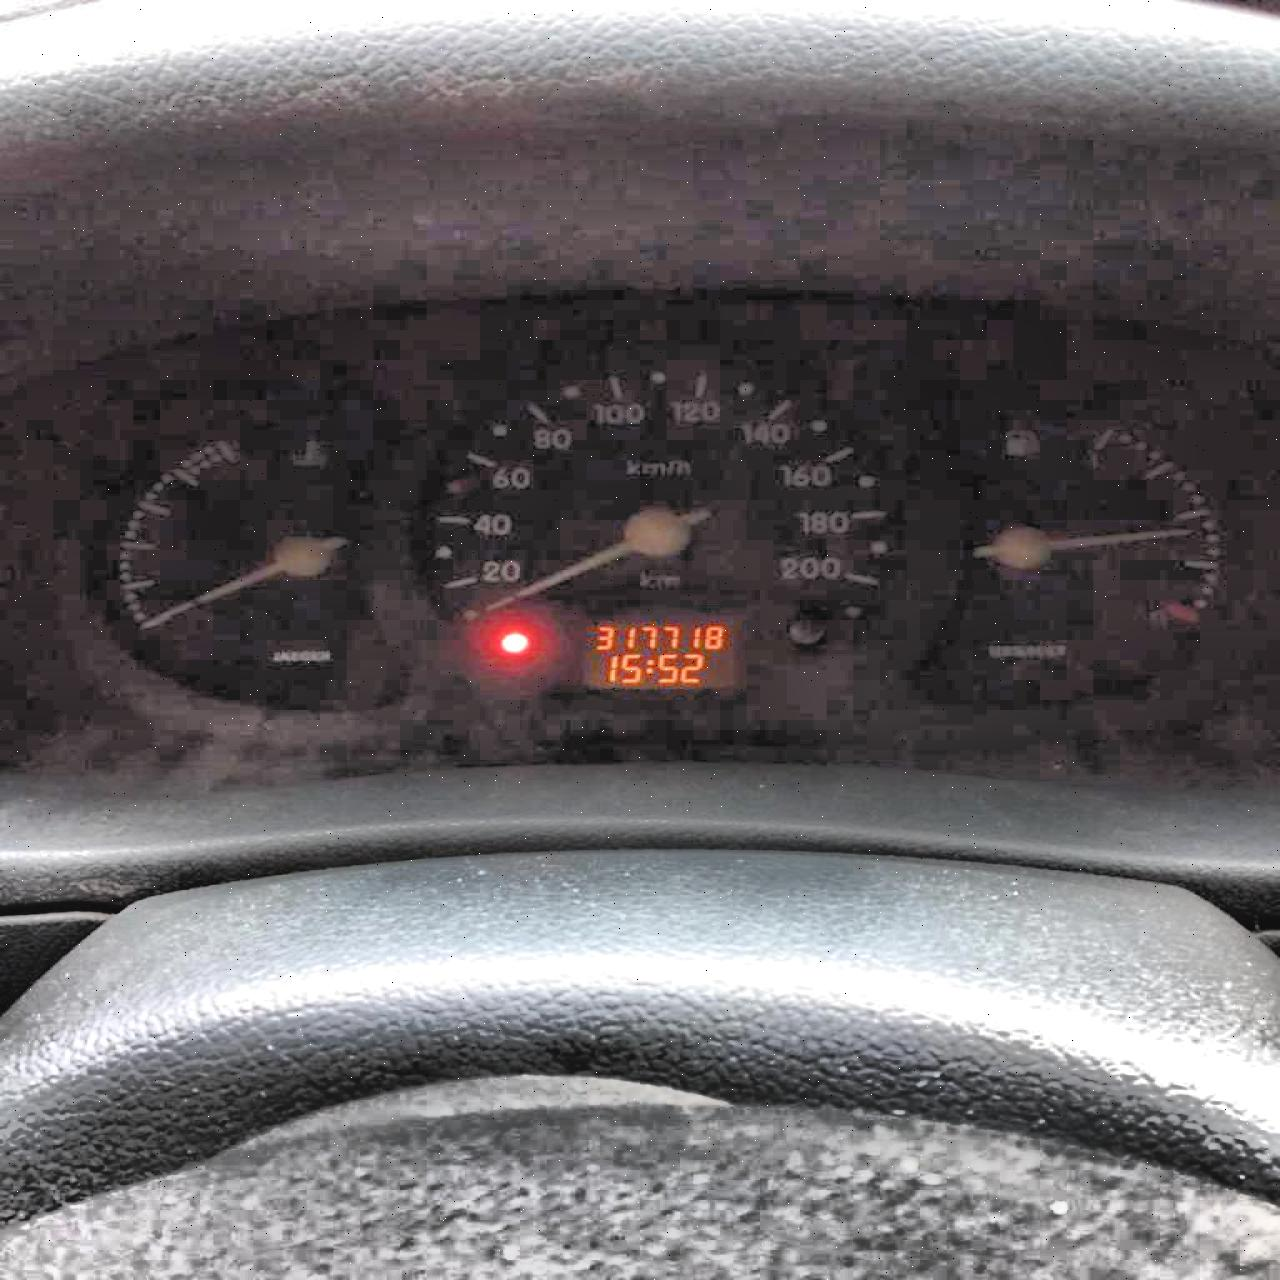1: (618, 625, 635, 649), (687, 622, 701, 648), (604, 654, 614, 682)
2: (676, 651, 703, 685)
3: (593, 624, 613, 652)
5: (618, 652, 641, 683), (655, 651, 676, 685)
7: (660, 622, 679, 647), (639, 624, 656, 648)
8: (703, 622, 723, 649)
X: (644, 655, 655, 676)
odometer: (557, 607, 748, 696)
